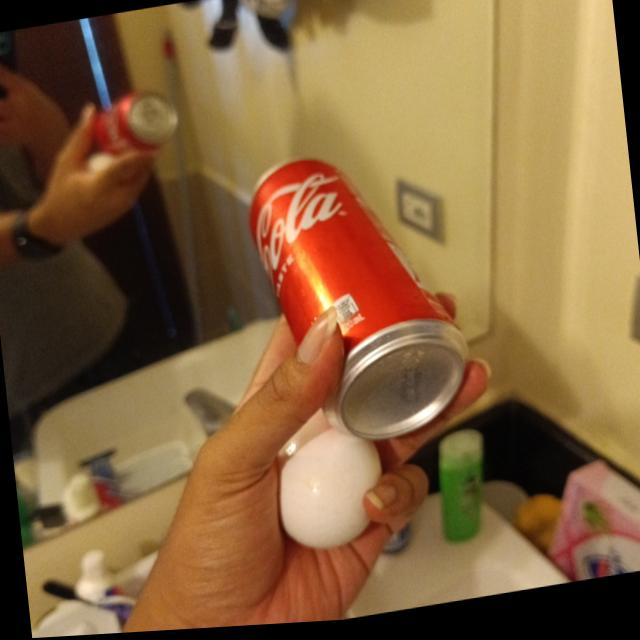coke: (246, 140, 474, 454)
egg: (264, 428, 385, 555)
